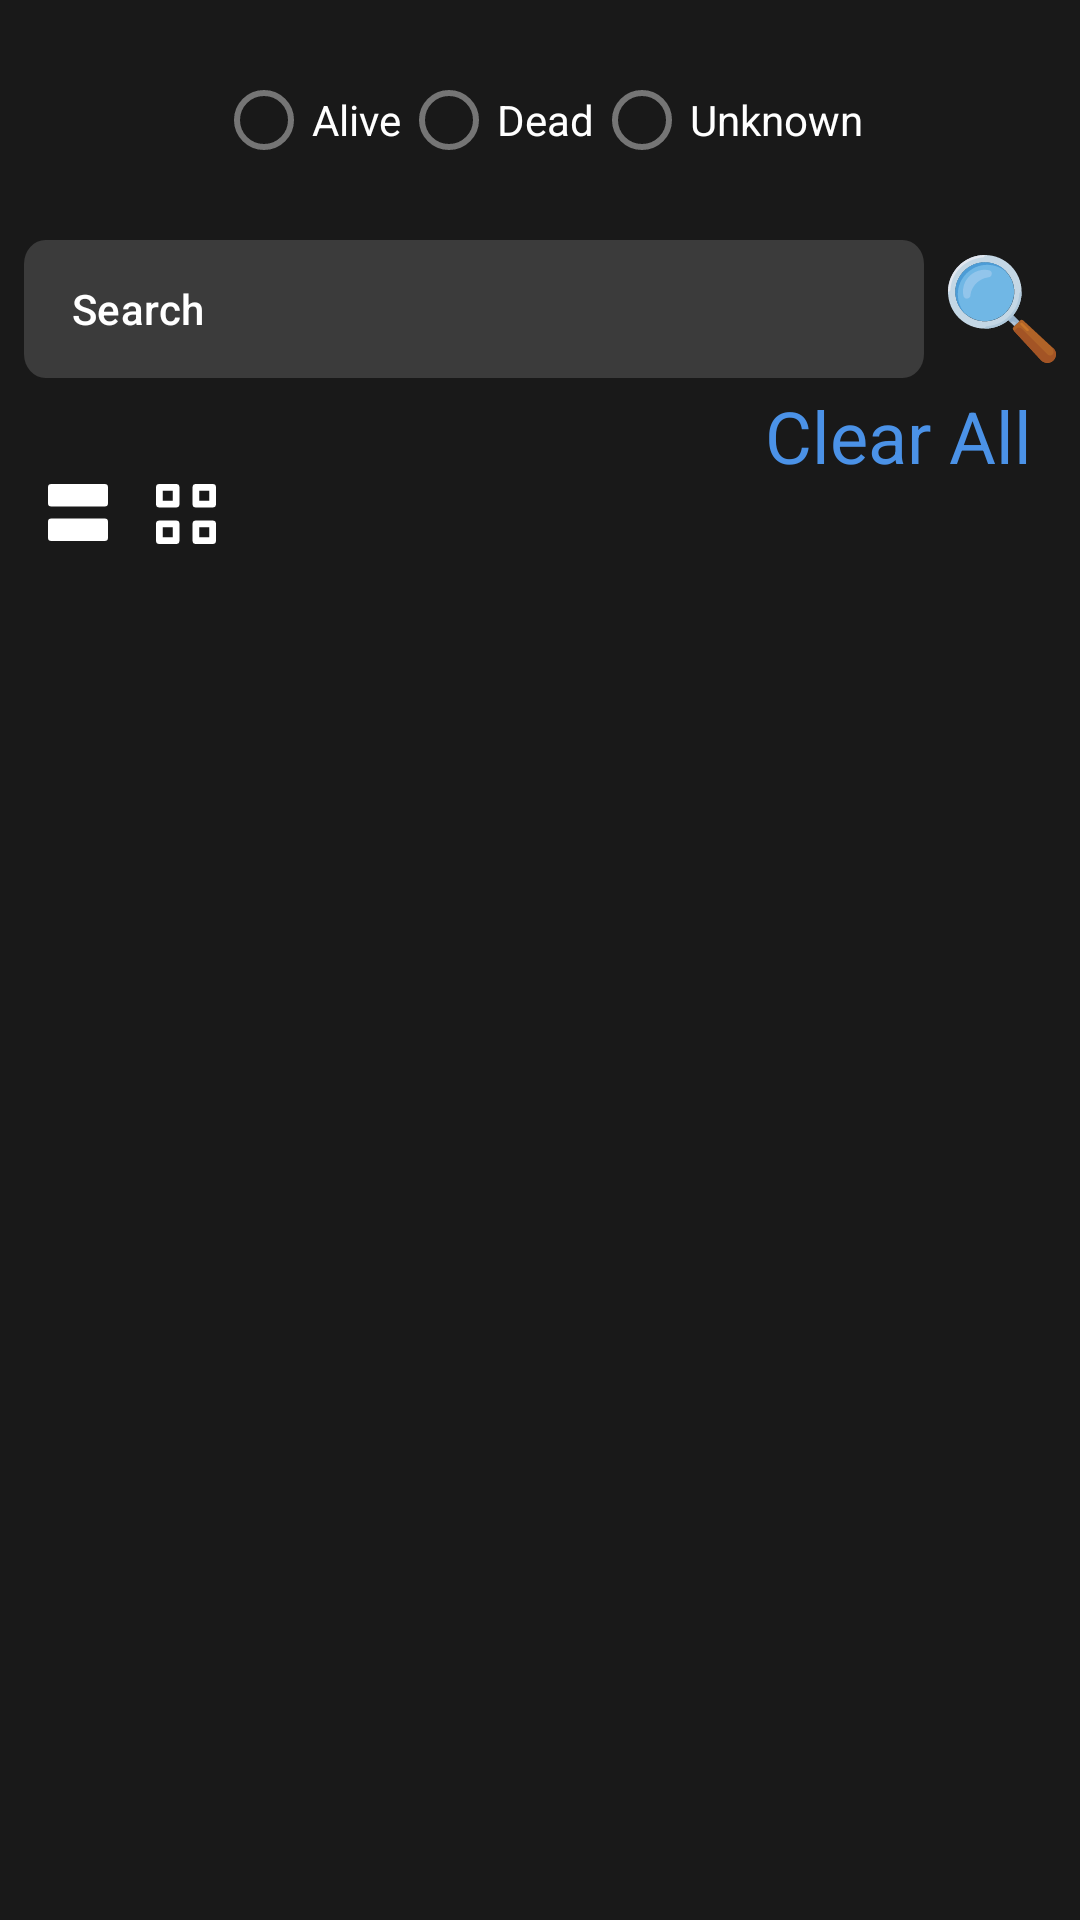

Point at icon controls on the screen. Image size 1080w x 1920h, points as point (x, y).
grid unselect: point (186, 514)
list select: point (78, 512)
